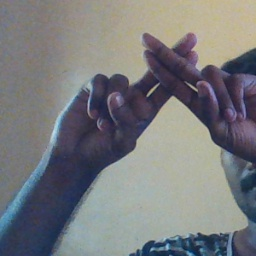F: (97, 21, 244, 138)
